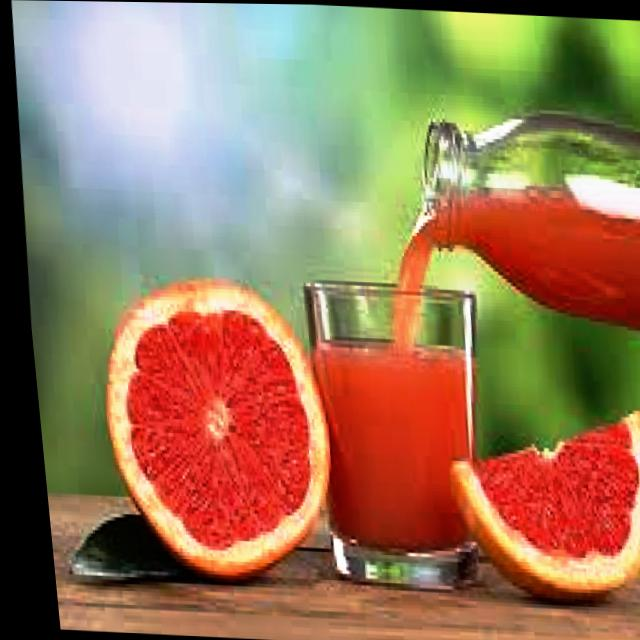drink: (291, 272, 511, 606)
